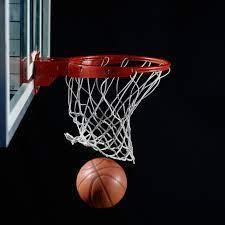ball: (77, 158, 128, 207)
rim: (64, 55, 170, 156)
